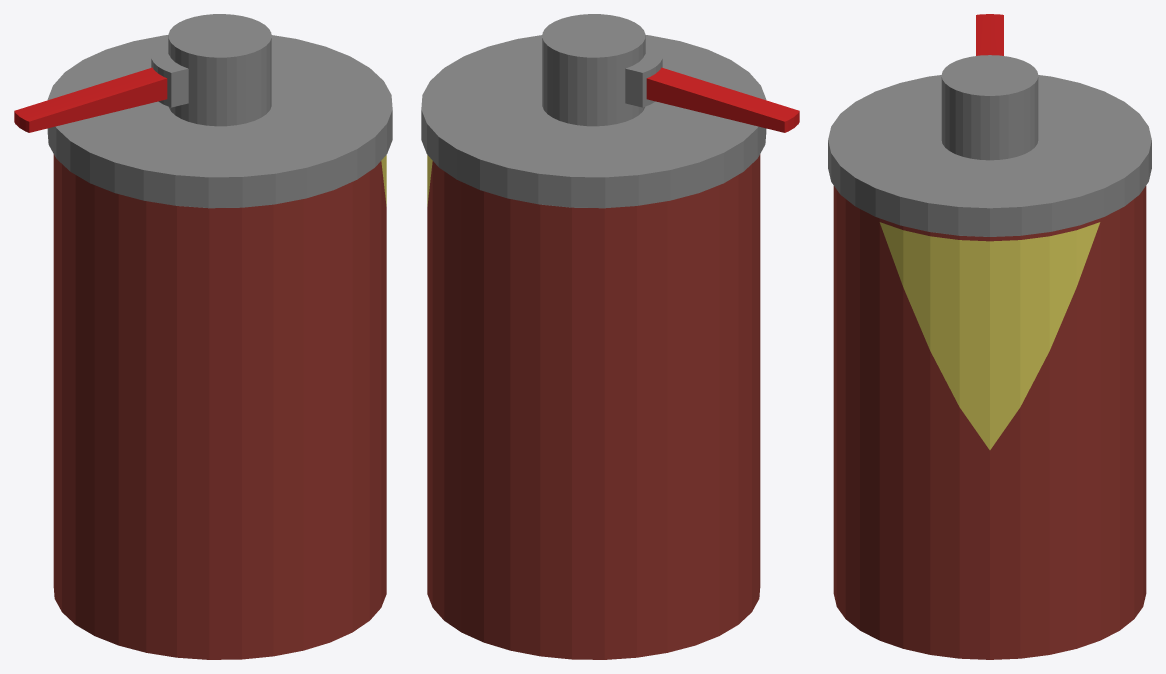
Rendered from sprayfoam.fbx.
3 views of the same model, side by side, from view 1: azimuth 30°, elevation 25°; view 2: azimuth 150°, elevation 25°; view 3: azimuth 270°, elevation 25° (orthographic). The views are drawn at different scales.
Visible parts, largest first — view 1: sprayfoam; view 2: sprayfoam; view 3: sprayfoam.
Boxes of the visible parts, x1,y1,x2,y2 form: sprayfoam: [14, 14, 392, 659]; sprayfoam: [421, 14, 799, 659]; sprayfoam: [828, 14, 1151, 659].
Size of the model in its own units: 44.71 by 67.55 by 38.24.
